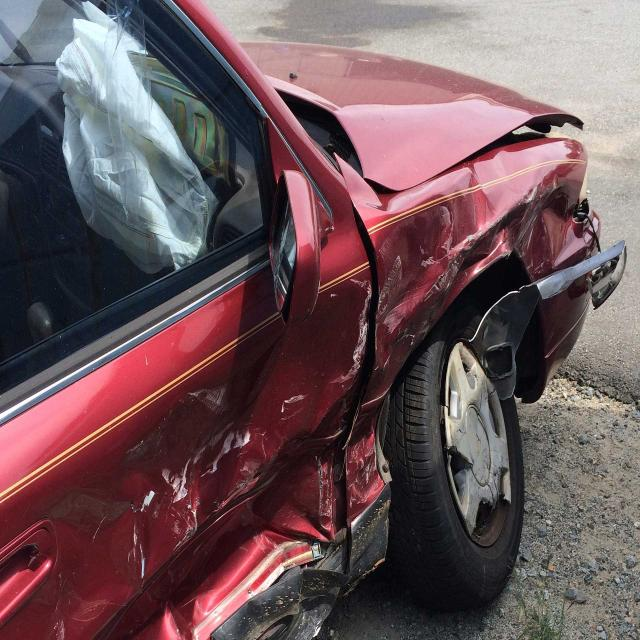crush: (51, 93, 627, 640)
